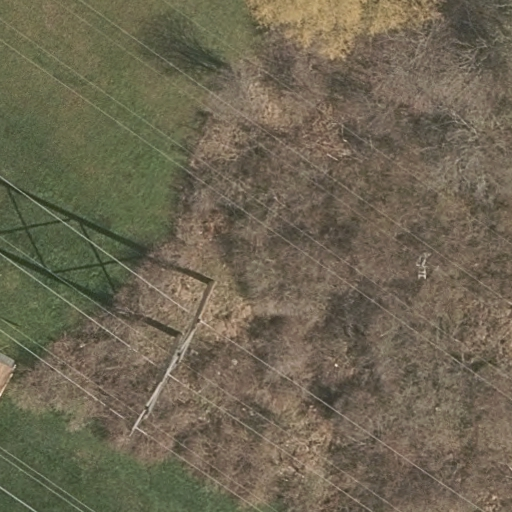DT: (117, 274, 225, 441)
